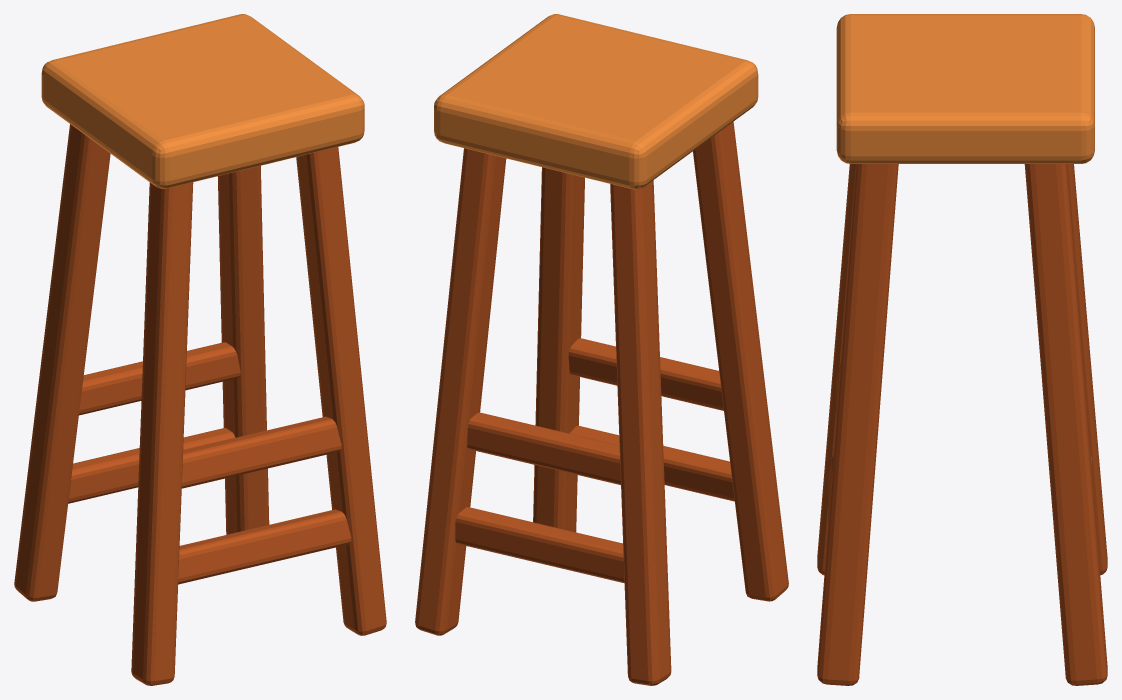
File: barchair-cut.FBX
3 renders of one model, left to right at view 1: azimuth 30°, elevation 25°; view 2: azimuth 150°, elevation 25°; view 3: azimuth 270°, elevation 25°, orthographic. The views are drawn at different scales.
Parts seen in each view (by area): view 1: polySurface13_Part_2, polySurface13_Part_1; view 2: polySurface13_Part_2, polySurface13_Part_1; view 3: polySurface13_Part_1, polySurface13_Part_2.
Part boxes in pixels (x1,y1,x2,y2): polySurface13_Part_2: [14, 262, 386, 685]; polySurface13_Part_1: [41, 14, 364, 380]; polySurface13_Part_2: [415, 262, 788, 685]; polySurface13_Part_1: [434, 14, 758, 377]; polySurface13_Part_1: [836, 14, 1094, 418]; polySurface13_Part_2: [817, 229, 1107, 685].
Size of the model in its own units: 25.95 by 54.57 by 25.4.
